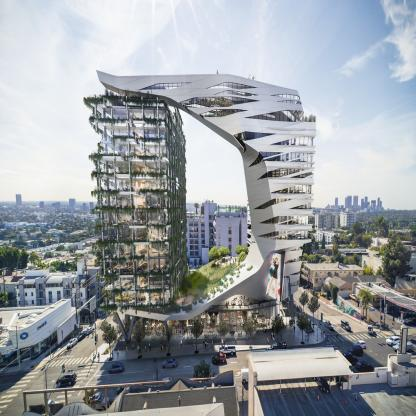Balcony: (206, 74, 274, 94), (210, 294, 276, 309), (90, 113, 165, 122), (89, 94, 164, 102), (93, 150, 167, 158), (98, 235, 170, 243), (107, 297, 170, 306), (104, 250, 170, 258), (94, 169, 167, 175), (95, 186, 167, 192), (96, 203, 167, 209), (97, 220, 168, 226), (215, 256, 245, 269), (171, 292, 196, 305), (299, 118, 316, 129)
Building Outline: (82, 69, 317, 341)
Facade: (82, 68, 317, 342)
Floor Slab: (88, 100, 164, 107), (97, 256, 169, 262), (89, 119, 164, 124), (91, 173, 165, 178), (89, 156, 166, 160), (91, 191, 167, 194), (112, 290, 169, 294), (95, 225, 169, 228), (96, 242, 169, 245), (103, 140, 165, 143), (120, 274, 169, 277), (94, 209, 167, 211)
Glass Wall: (143, 277, 294, 335), (102, 126, 167, 159), (110, 258, 170, 274), (106, 194, 168, 209), (107, 211, 169, 226), (101, 108, 165, 122), (104, 161, 167, 175), (105, 178, 168, 192), (108, 228, 170, 242), (111, 289, 173, 303), (109, 245, 169, 258), (111, 275, 171, 287)
Pillar: (113, 312, 135, 341), (163, 320, 171, 335)
Shop: (266, 252, 281, 301)
Window: (179, 97, 259, 113), (233, 131, 276, 153), (246, 110, 302, 122), (257, 169, 314, 180), (248, 151, 283, 167), (262, 153, 314, 162), (258, 231, 309, 240), (254, 198, 295, 209), (200, 109, 248, 118), (259, 216, 312, 224), (207, 82, 257, 90), (271, 185, 313, 194), (139, 83, 190, 90), (270, 137, 314, 145), (215, 90, 258, 96), (271, 94, 300, 100), (289, 202, 312, 209), (284, 256, 302, 263), (277, 100, 302, 105), (289, 246, 302, 251), (298, 164, 312, 168), (290, 271, 300, 275), (290, 281, 298, 286), (306, 196, 312, 199)
